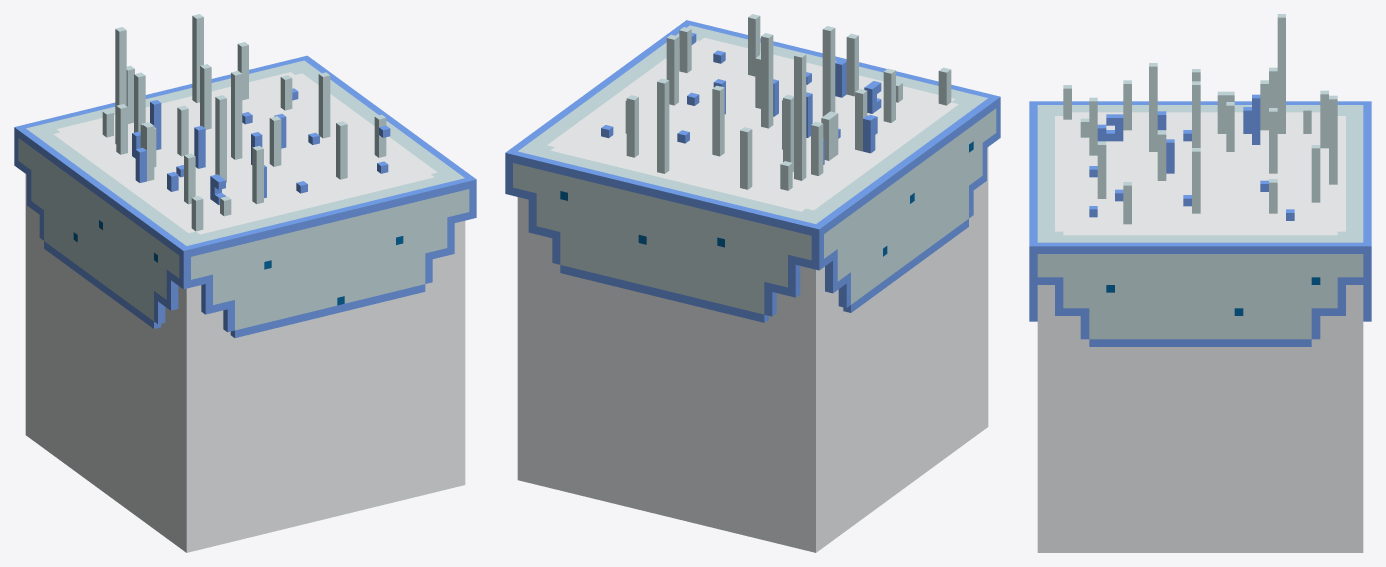
File: tileSnow3.obj
3 renders of one model, left to right at view 1: azimuth 30°, elevation 25°; view 2: azimuth 150°, elevation 25°; view 3: azimuth 270°, elevation 25°, orthographic. The views are drawn at different scales.
Bounding box in the file's own units: 4 × 5.5 × 4.
Materials: 1 (1 with a texture image).
